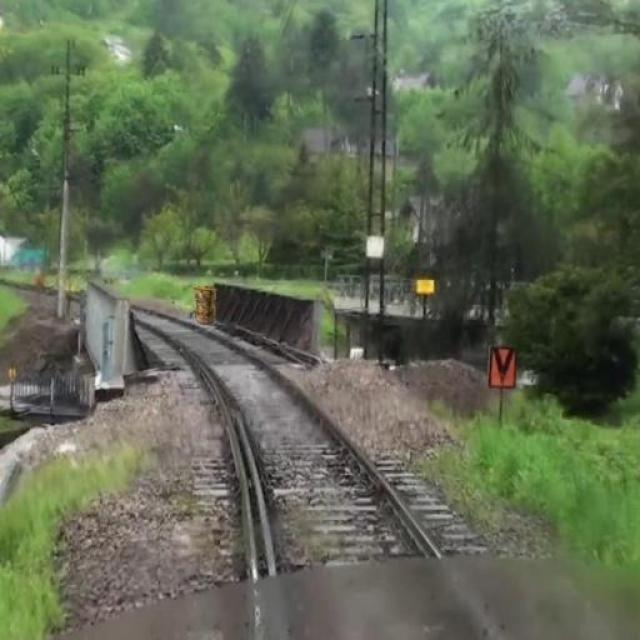Other_objects: (190, 280, 224, 334)
